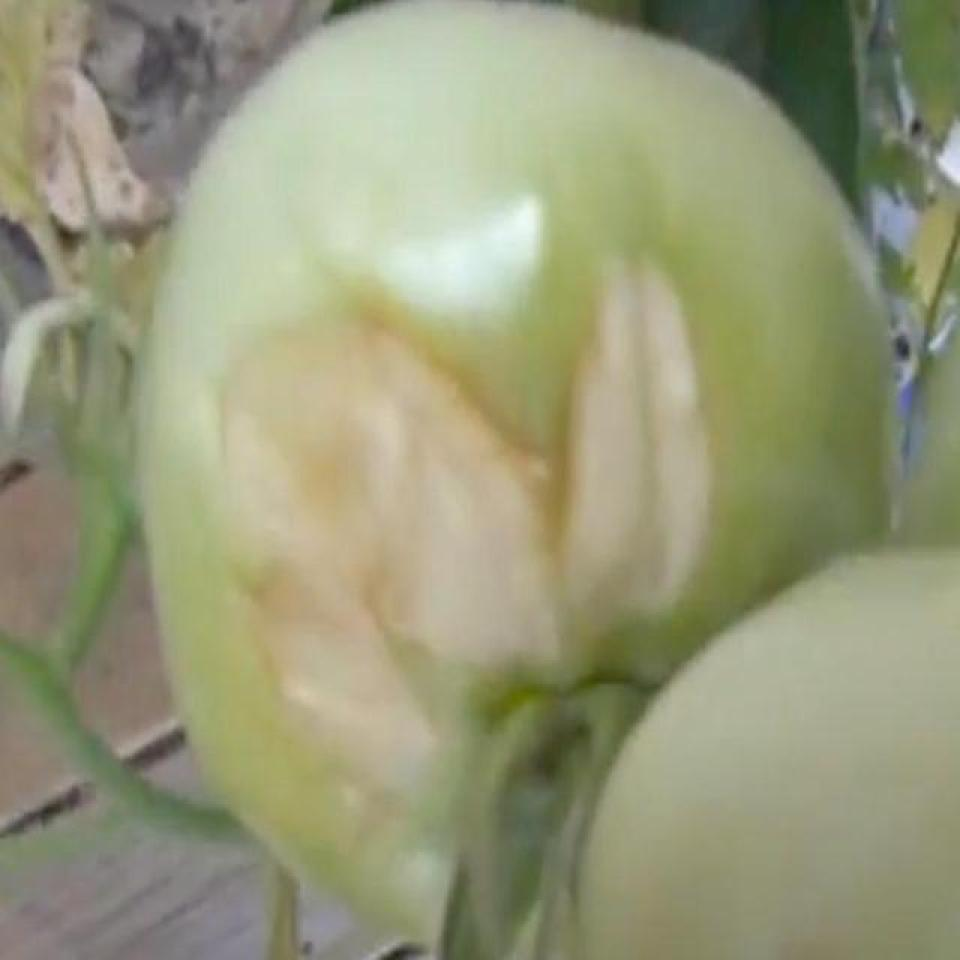Sunscald: (202, 255, 716, 809)
